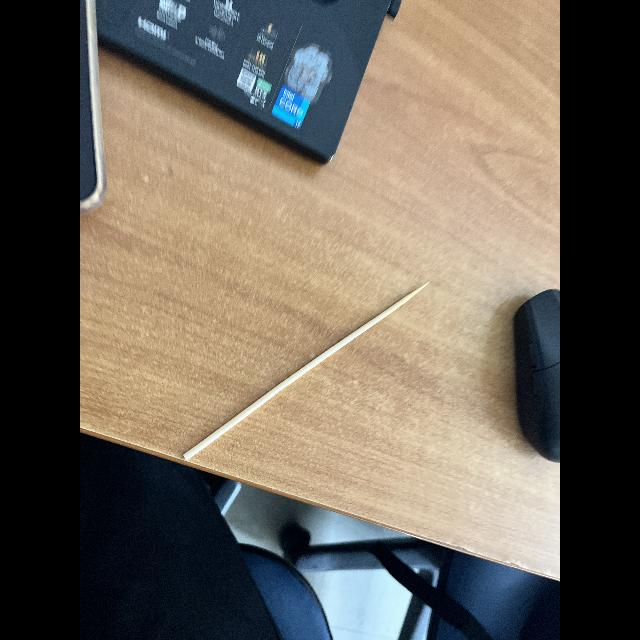stick: (172, 272, 438, 482)
